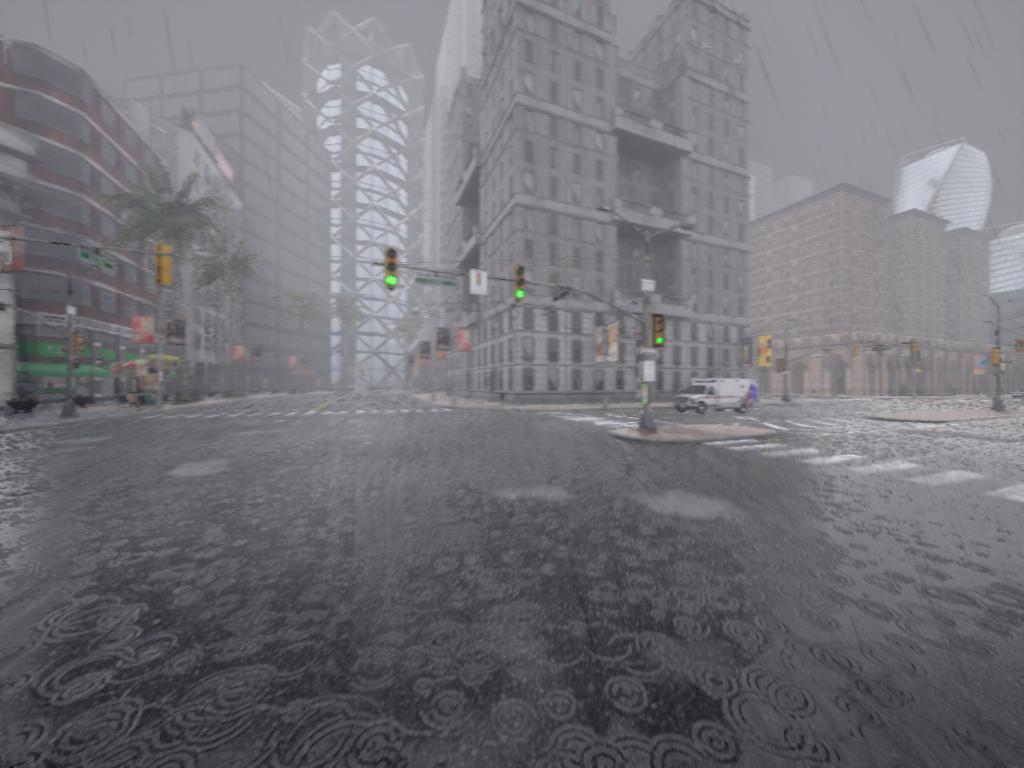traffic_light: (155, 244, 177, 289), (385, 251, 402, 289), (513, 267, 528, 302), (653, 318, 667, 347), (989, 350, 1004, 371)
